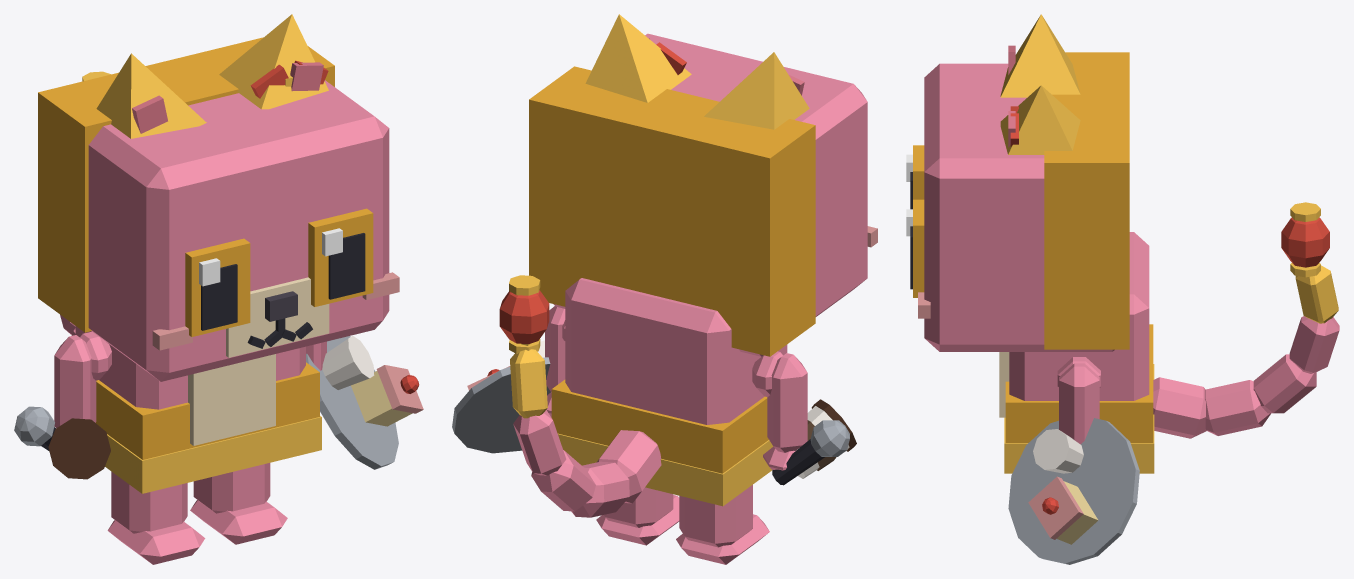
The model's file is CatCafe_Cat_PaperLantern_Work.glb.
3 renders of one model, left to right at view 1: azimuth 30°, elevation 25°; view 2: azimuth 150°, elevation 25°; view 3: azimuth 270°, elevation 25°, orthographic. The views are drawn at different scales.
Parts seen in each view (by area): view 1: CatCafe_Cat_PaperLantern_Work_Head, CatCafe_Cat_PaperLantern_Work_Body, CatCafe_Cat_PaperLantern_Work_Held_Waiter, CatCafe_Cat_PaperLantern_Work_LegB2, CatCafe_Cat_PaperLantern_Work_Eye2, CatCafe_Cat_PaperLantern_Work_Eye1, CatCafe_Cat_PaperLantern_Work_LegB1, CatCafe_Cat_PaperLantern_Work_EarL, CatCafe_Cat_PaperLantern_Work_EarR, CatCafe_Cat_PaperLantern_Work_LegF2, CatCafe_Cat_PaperLantern_Work_Held_Barista, CatCafe_Cat_PaperLantern_Work_Held_Entertainer (+1 smaller); view 2: CatCafe_Cat_PaperLantern_Work_Head, CatCafe_Cat_PaperLantern_Work_Body, CatCafe_Cat_PaperLantern_Work_Tail, CatCafe_Cat_PaperLantern_Work_EarL, CatCafe_Cat_PaperLantern_Work_LegB2, CatCafe_Cat_PaperLantern_Work_Held_Waiter, CatCafe_Cat_PaperLantern_Work_EarR, CatCafe_Cat_PaperLantern_Work_LegF2, CatCafe_Cat_PaperLantern_Work_LegB1, CatCafe_Cat_PaperLantern_Work_Tail_Glow, CatCafe_Cat_PaperLantern_Work_Held_Entertainer, CatCafe_Cat_PaperLantern_Work_LegF1 (+1 smaller); view 3: CatCafe_Cat_PaperLantern_Work_Head, CatCafe_Cat_PaperLantern_Work_Held_Waiter, CatCafe_Cat_PaperLantern_Work_Body, CatCafe_Cat_PaperLantern_Work_Tail, CatCafe_Cat_PaperLantern_Work_EarR, CatCafe_Cat_PaperLantern_Work_EarL, CatCafe_Cat_PaperLantern_Work_Tail_Glow, CatCafe_Cat_PaperLantern_Work_LegF1, CatCafe_Cat_PaperLantern_Work_Eye1, CatCafe_Cat_PaperLantern_Work_Eye2.
Part boxes in pixels (left/top/right/bottom): CatCafe_Cat_PaperLantern_Work_Head: left=38, top=37, right=399, bottom=381; CatCafe_Cat_PaperLantern_Work_Body: left=75, top=326, right=321, bottom=493; CatCafe_Cat_PaperLantern_Work_Held_Waiter: left=306, top=335, right=423, bottom=469; CatCafe_Cat_PaperLantern_Work_LegB2: left=107, top=471, right=205, bottom=564; CatCafe_Cat_PaperLantern_Work_Eye2: left=185, top=238, right=250, bottom=336; CatCafe_Cat_PaperLantern_Work_Eye1: left=308, top=208, right=373, bottom=306; CatCafe_Cat_PaperLantern_Work_LegB1: left=190, top=463, right=287, bottom=544; CatCafe_Cat_PaperLantern_Work_EarL: left=219, top=14, right=328, bottom=109; CatCafe_Cat_PaperLantern_Work_EarR: left=96, top=53, right=206, bottom=138; CatCafe_Cat_PaperLantern_Work_LegF2: left=54, top=335, right=96, bottom=427; CatCafe_Cat_PaperLantern_Work_Held_Barista: left=48, top=418, right=110, bottom=479; CatCafe_Cat_PaperLantern_Work_Held_Entertainer: left=14, top=406, right=55, bottom=450; CatCafe_Cat_PaperLantern_Work_Head: left=529, top=33, right=877, bottom=356; CatCafe_Cat_PaperLantern_Work_Body: left=551, top=278, right=787, bottom=506; CatCafe_Cat_PaperLantern_Work_Tail: left=510, top=349, right=661, bottom=517; CatCafe_Cat_PaperLantern_Work_EarL: left=585, top=14, right=691, bottom=102; CatCafe_Cat_PaperLantern_Work_LegB2: left=676, top=485, right=769, bottom=564; CatCafe_Cat_PaperLantern_Work_Held_Waiter: left=452, top=340, right=550, bottom=453; CatCafe_Cat_PaperLantern_Work_EarR: left=704, top=52, right=809, bottom=129; CatCafe_Cat_PaperLantern_Work_LegF2: left=763, top=353, right=807, bottom=470; CatCafe_Cat_PaperLantern_Work_LegB1: left=596, top=487, right=679, bottom=545; CatCafe_Cat_PaperLantern_Work_Tail_Glow: left=499, top=275, right=549, bottom=353; CatCafe_Cat_PaperLantern_Work_Held_Entertainer: left=772, top=420, right=849, bottom=485; CatCafe_Cat_PaperLantern_Work_LegF1: left=545, top=306, right=565, bottom=417; CatCafe_Cat_PaperLantern_Work_Head: left=918, top=52, right=1129, bottom=351; CatCafe_Cat_PaperLantern_Work_Held_Waiter: left=1008, top=418, right=1139, bottom=564; CatCafe_Cat_PaperLantern_Work_Body: left=999, top=232, right=1154, bottom=473; CatCafe_Cat_PaperLantern_Work_Tail: left=1153, top=265, right=1339, bottom=438; CatCafe_Cat_PaperLantern_Work_EarR: left=1000, top=14, right=1080, bottom=97; CatCafe_Cat_PaperLantern_Work_EarL: left=1000, top=85, right=1080, bottom=154; CatCafe_Cat_PaperLantern_Work_Tail_Glow: left=1281, top=202, right=1329, bottom=277; CatCafe_Cat_PaperLantern_Work_LegF1: left=1059, top=363, right=1099, bottom=444; CatCafe_Cat_PaperLantern_Work_Eye1: left=906, top=199, right=924, bottom=297; CatCafe_Cat_PaperLantern_Work_Eye2: left=906, top=145, right=924, bottom=209.
Size of the model in its own units: 1.53 by 1.93 by 1.62.
Materials: 1 (1 with a texture image).
